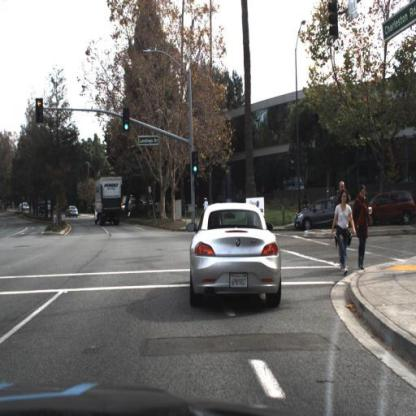car: (189, 202, 284, 307), (364, 189, 415, 227), (295, 200, 340, 231), (66, 204, 81, 220)
pedestrian: (333, 191, 354, 272), (355, 183, 371, 272), (335, 182, 349, 249)
trafficLight-Green: (193, 150, 201, 177), (124, 110, 131, 130)
trafficLight-RedLeft: (36, 99, 43, 126)
truck: (94, 176, 125, 229)
